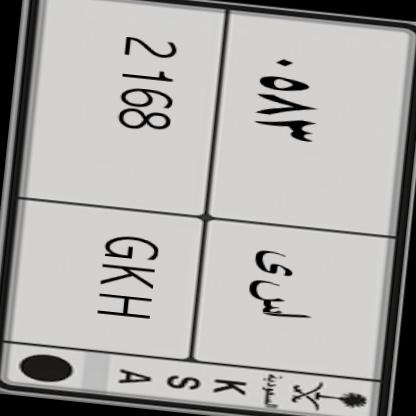english: (0, 0, 241, 364)
